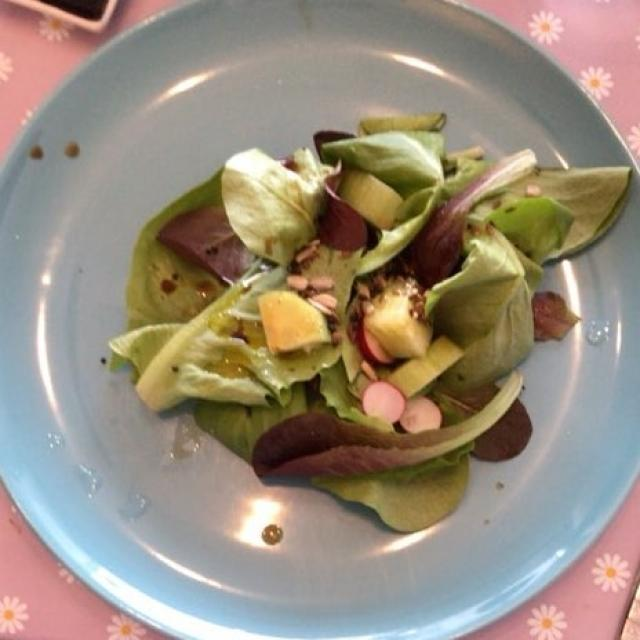cucumber: (254, 185, 465, 390)
radish: (355, 332, 446, 426)
salad: (110, 129, 633, 526)
